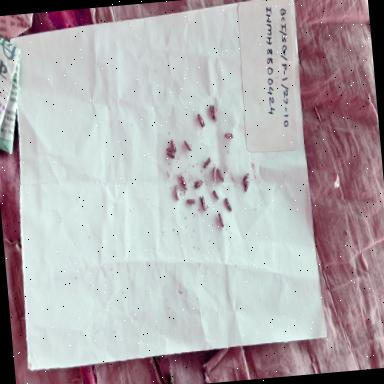pbw: (197, 112, 207, 130), (241, 172, 252, 188), (199, 194, 208, 213), (242, 179, 252, 195), (192, 179, 206, 190), (208, 103, 216, 122), (178, 172, 188, 187), (183, 139, 193, 154), (165, 144, 177, 156), (217, 168, 225, 186), (202, 157, 213, 170), (165, 151, 176, 163), (212, 104, 219, 122), (173, 184, 180, 202), (225, 196, 232, 214), (179, 180, 189, 192), (212, 166, 218, 186), (218, 212, 225, 229), (171, 138, 178, 154), (187, 196, 197, 207), (212, 189, 220, 202), (224, 132, 234, 140)
